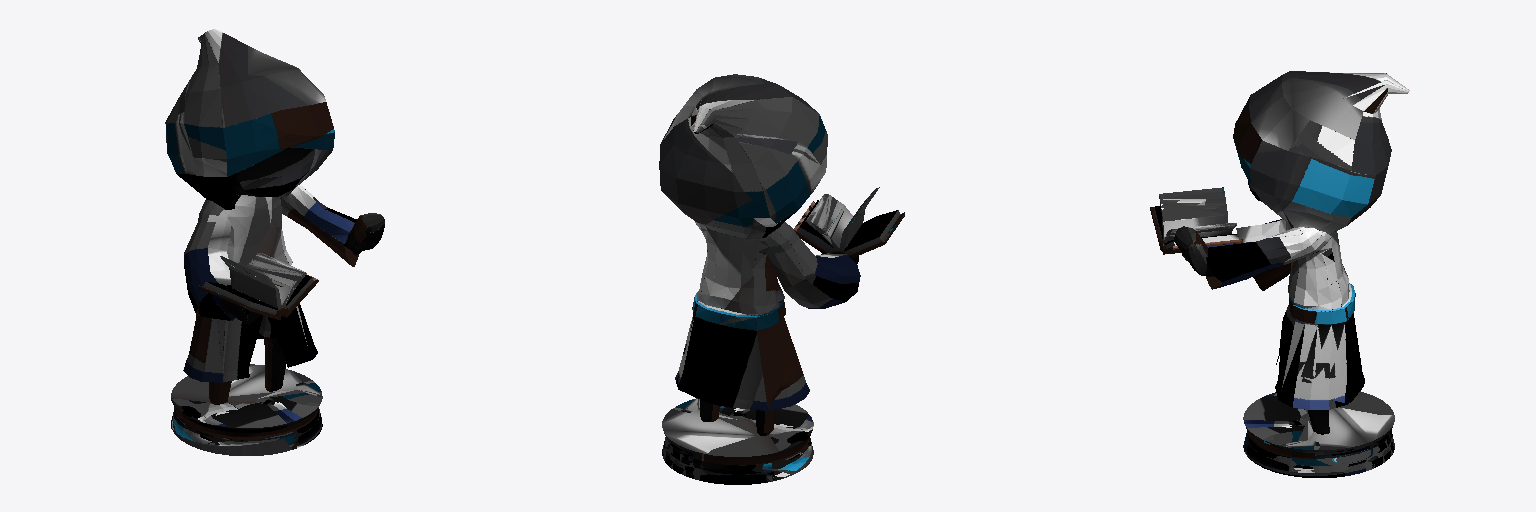
3 views of the same model, side by side, from view 1: azimuth 30°, elevation 25°; view 2: azimuth 150°, elevation 25°; view 3: azimuth 270°, elevation 25° (orthographic).
Visible parts, largest first — view 1: Cylinder; view 2: Cylinder; view 3: Cylinder.
Part boxes in pixels (x1,y1,x2,y2): Cylinder: (165,29,384,455); Cylinder: (659,74,904,484); Cylinder: (1150,71,1409,477).
Bounding box in the file's own units: 1.7 × 3.44 × 2.18.
Materials: 3 (1 with a texture image).